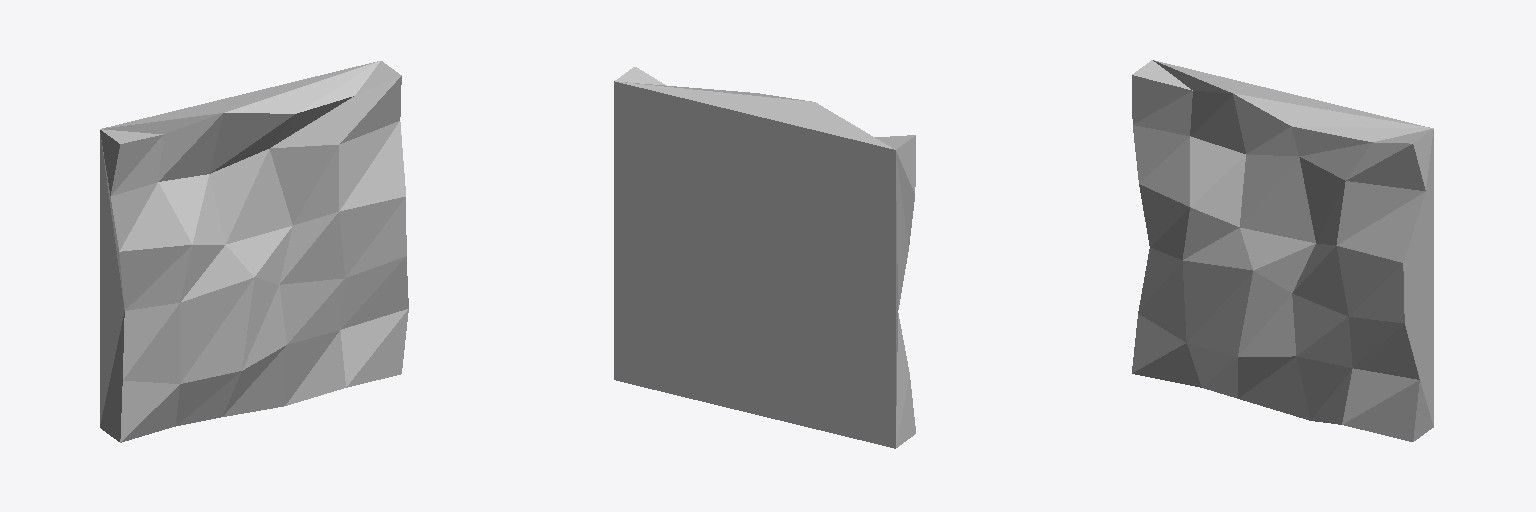
The model's file is wall_cave.obj.
3 renders of one model, left to right at view 1: azimuth 30°, elevation 25°; view 2: azimuth 150°, elevation 25°; view 3: azimuth 330°, elevation 25°, orthographic.
Parts seen in each view (by area): view 1: Cube; view 2: Cube; view 3: Cube.
Boxes of the visible parts, x1,y1,x2,y2 form: Cube: [100, 61, 408, 442]; Cube: [614, 67, 915, 448]; Cube: [1132, 60, 1433, 441].
Size of the model in its own units: 2.05 by 2.12 by 0.3462.